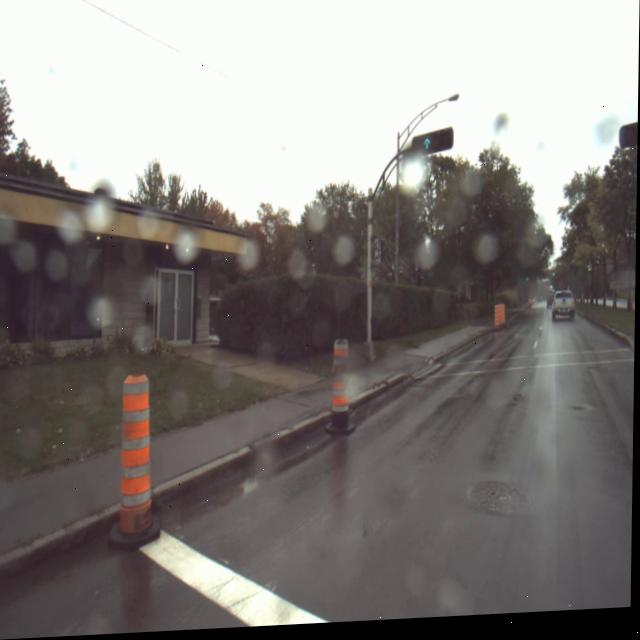car: (553, 297, 577, 329)
trafficLight-Green: (419, 137, 436, 159), (637, 128, 638, 153), (526, 281, 530, 287), (553, 277, 557, 282)
